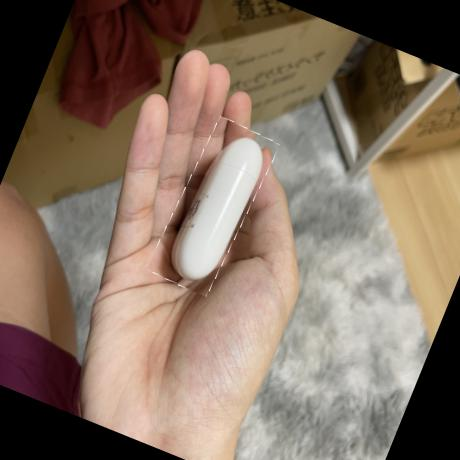airpod2: (148, 114, 278, 300)
